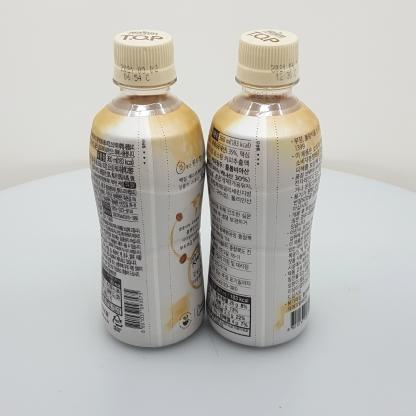--------TOP-----------: (205, 29, 323, 348), (89, 29, 206, 347)
